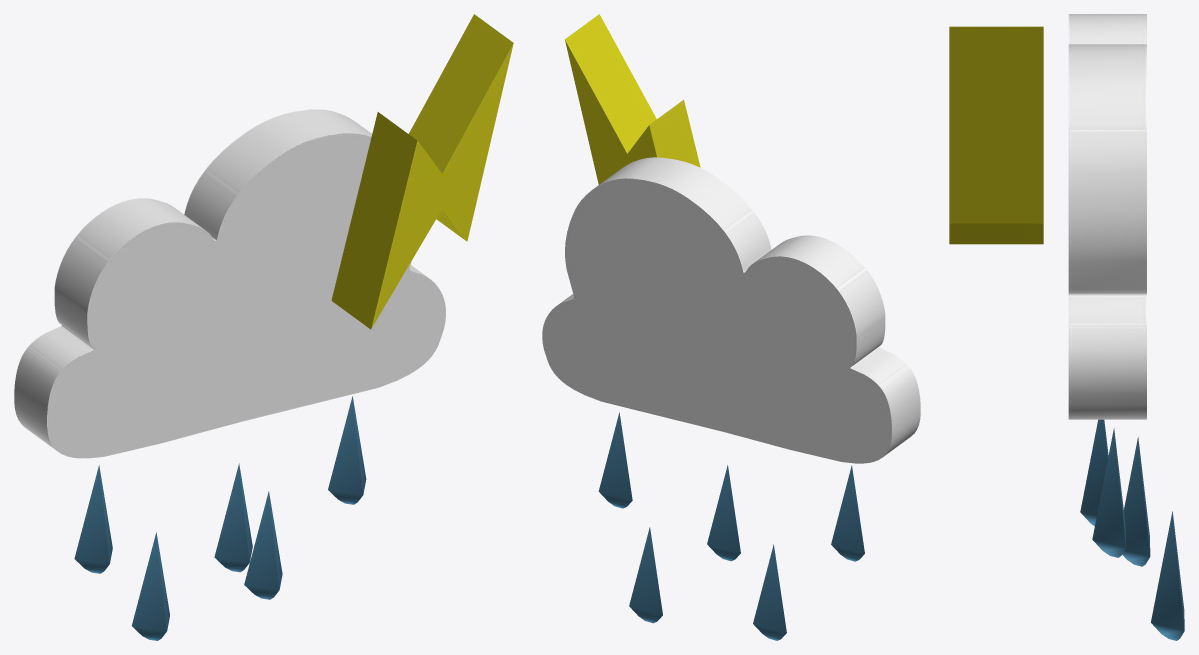
File: thunderstorm.glb
The picture shows the model from 3 angles, left to right: view 1: azimuth 30°, elevation 25°; view 2: azimuth 150°, elevation 25°; view 3: azimuth 270°, elevation 25°; orthographic projection. The views are drawn at different scales.
Parts seen in each view (by area): view 1: rain_lighting; view 2: rain_lighting; view 3: rain_lighting.
Part boxes in pixels (box(x1,y1,x2,y2)): rain_lighting: box(14, 14, 513, 640); rain_lighting: box(542, 14, 920, 640); rain_lighting: box(949, 14, 1184, 640).
Bounding box in the file's own units: 23.86 × 32.14 × 9.79.
1 material, 1 textured.
